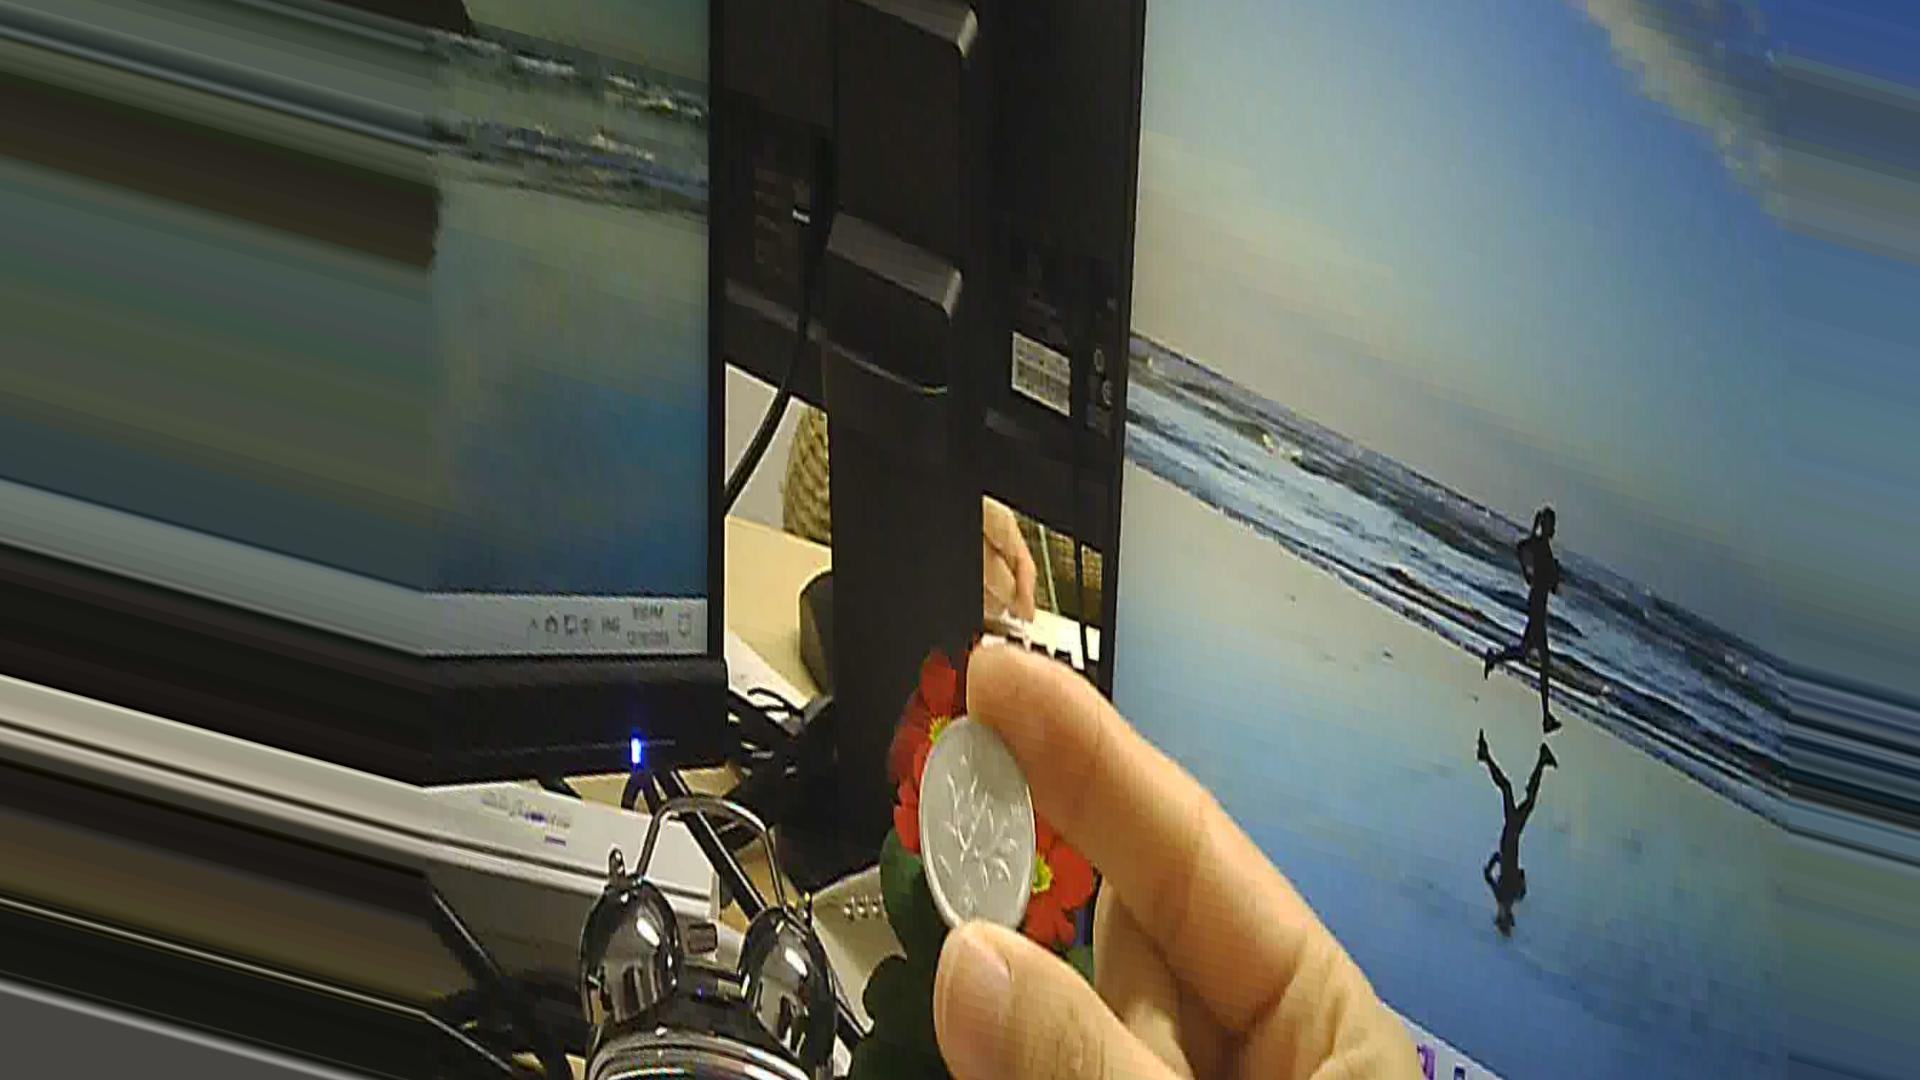1 Yen: (905, 707, 1051, 952)
